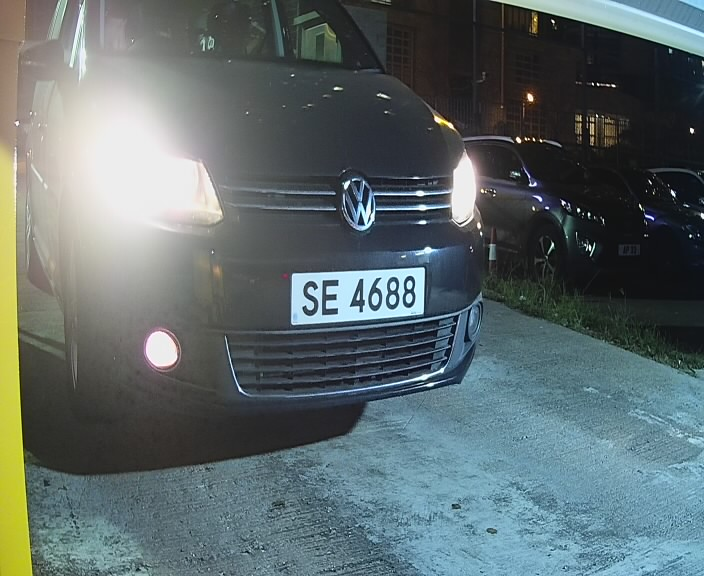Car: (38, 2, 509, 468)
License Plate: (286, 260, 436, 330)
